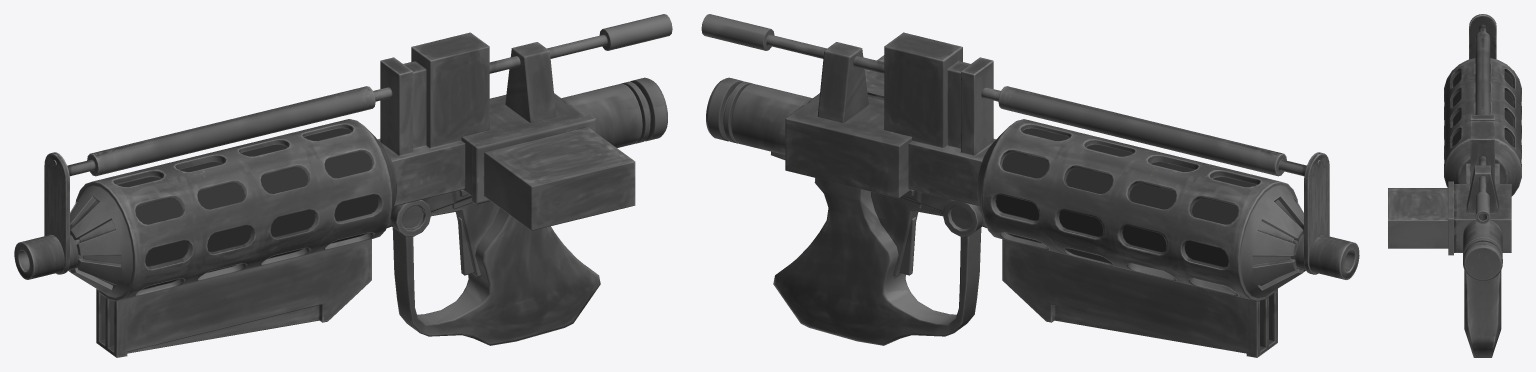
Rendered from E-5_Blaster_Rifle.fbx.
3 views of the same model, side by side, from view 1: azimuth 30°, elevation 25°; view 2: azimuth 150°, elevation 25°; view 3: azimuth 270°, elevation 25° (orthographic). The views are drawn at different scales.
Parts seen in each view (by area): view 1: Animated.001; view 2: Animated.001; view 3: Animated.001.
Boxes of the visible parts, x1,y1,x2,y2 form: Animated.001: (14, 14, 672, 357); Animated.001: (701, 14, 1359, 357); Animated.001: (1388, 14, 1521, 357).
Size of the model in its own units: 40.74 by 18.43 by 11.49.
1 material, 1 textured.
